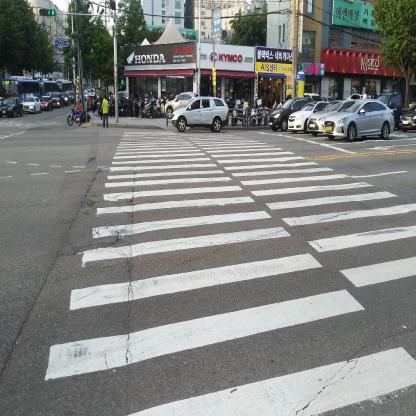Green: (120, 66, 124, 84)
